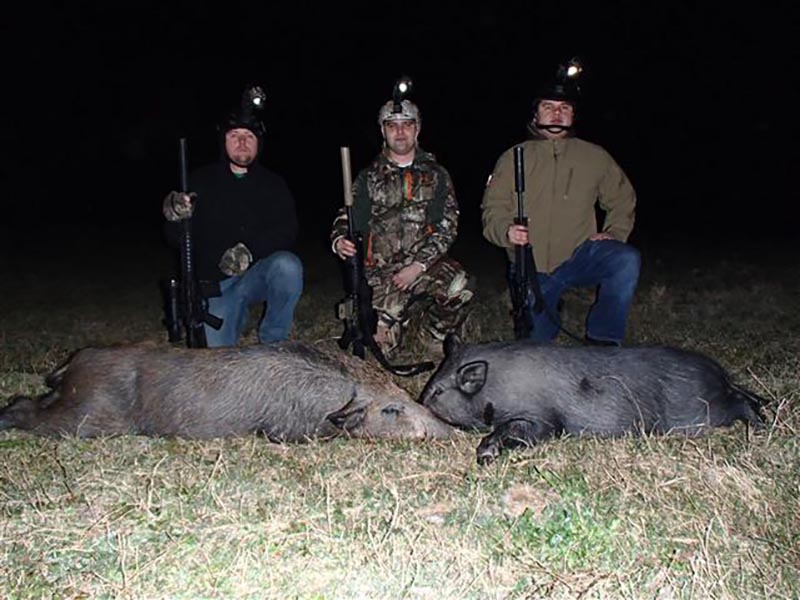cacciatore: (143, 77, 314, 346), (491, 76, 652, 337), (332, 80, 479, 346)
cinghiale: (13, 334, 438, 445), (421, 343, 772, 445)
fucile: (161, 139, 224, 355), (499, 144, 538, 343)
